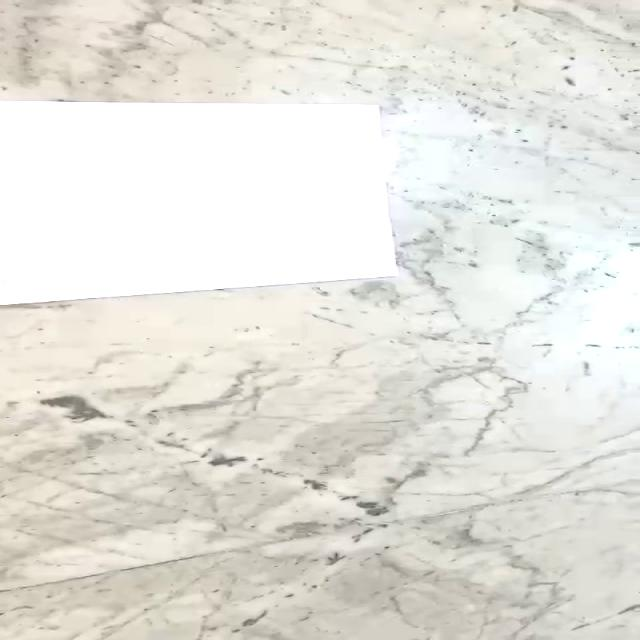road: (0, 100, 397, 307)
